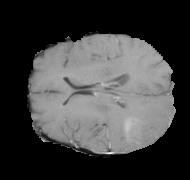Edema: (95, 105, 153, 154)
EnhancingTumors: (108, 109, 151, 150)
Necrosis: (107, 109, 151, 152)
